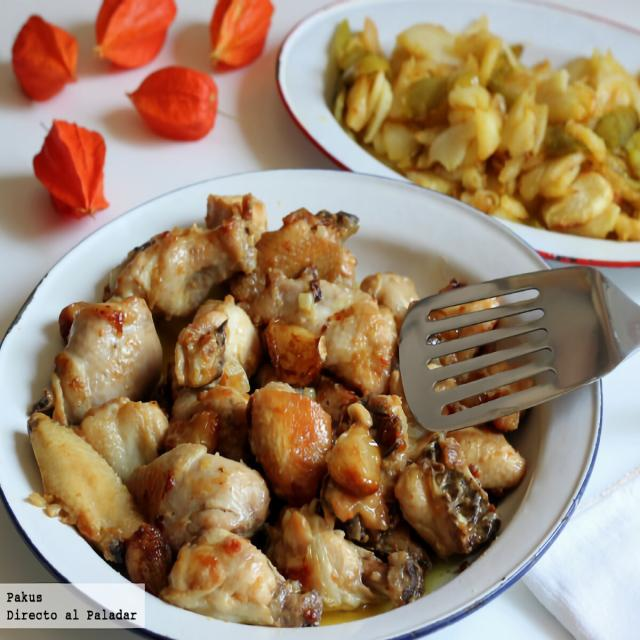carne de cerdo: (34, 187, 548, 620)
pasta: (327, 8, 635, 248)
